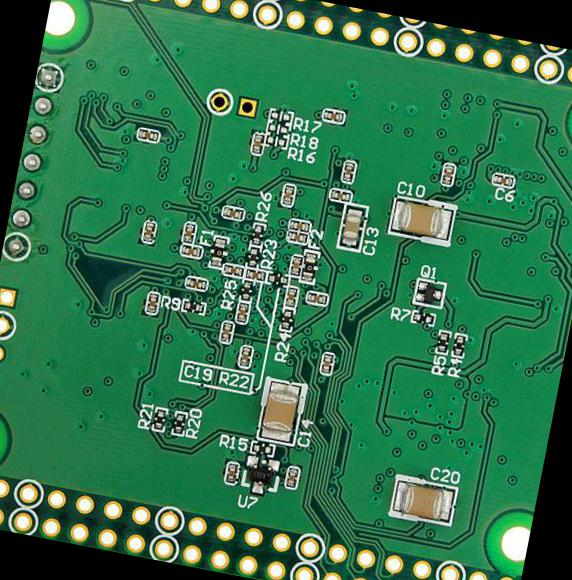Capacitor: (390, 475, 457, 525), (387, 194, 455, 243), (256, 377, 305, 444), (338, 203, 368, 250), (490, 170, 518, 188), (244, 266, 267, 284)
Connector: (0, 468, 521, 579), (53, 0, 571, 100), (0, 277, 30, 372), (202, 86, 262, 125)
IC: (243, 453, 281, 490)
Inductor: (298, 248, 319, 284), (208, 234, 229, 268)
Pads: (268, 106, 294, 123), (264, 132, 288, 148), (265, 120, 291, 134)
Pins: (0, 57, 68, 269)
Resistor Network: (169, 409, 188, 437), (278, 306, 296, 331), (181, 298, 206, 315), (250, 220, 266, 246), (410, 310, 436, 326), (151, 405, 167, 431), (237, 279, 254, 303), (265, 270, 290, 286), (249, 440, 274, 456), (450, 333, 466, 357), (436, 328, 450, 354), (246, 244, 262, 266)
Transistor: (413, 278, 445, 308)
Unknown Unlabeled: (303, 288, 329, 307), (278, 182, 298, 206), (287, 215, 312, 233), (143, 290, 161, 315), (222, 460, 240, 485), (320, 108, 346, 125), (218, 318, 235, 344), (282, 283, 299, 308), (440, 161, 456, 187), (288, 252, 304, 278), (183, 274, 209, 290), (234, 301, 252, 324), (319, 350, 336, 374), (340, 157, 356, 182), (135, 126, 160, 142), (220, 204, 245, 220), (287, 228, 310, 245), (181, 221, 197, 245), (179, 242, 203, 258), (238, 344, 254, 368), (330, 186, 353, 202), (283, 464, 299, 487), (250, 132, 265, 156), (142, 222, 157, 245), (222, 262, 246, 276)
